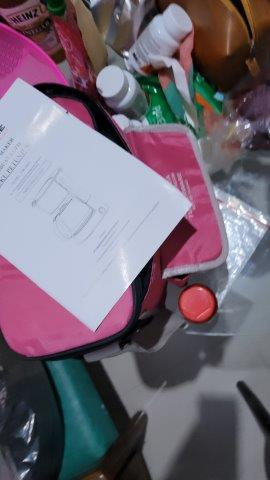kertas: (1, 76, 195, 334)
